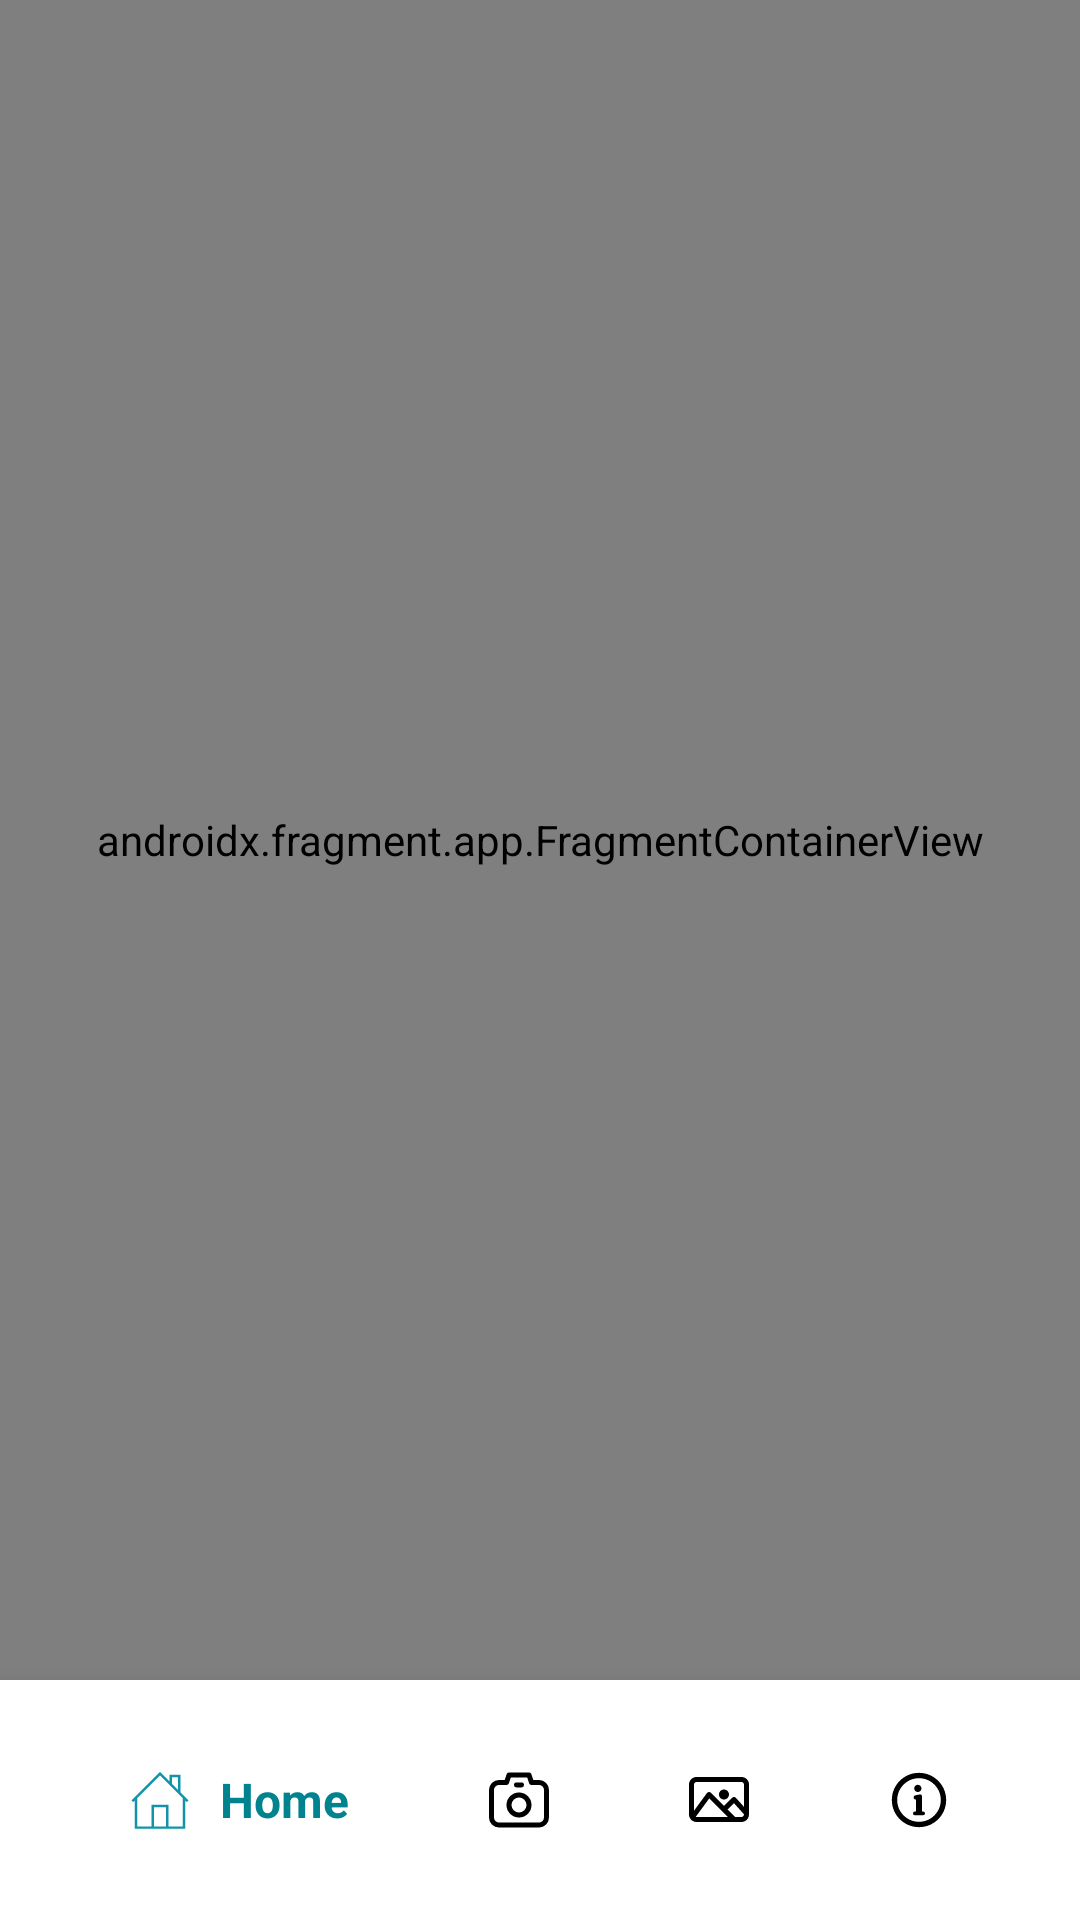

Where to tap for icons on this 1080px x 1920px app screen, as (x,y):
camera: (519,1800)
info: (919,1800)
